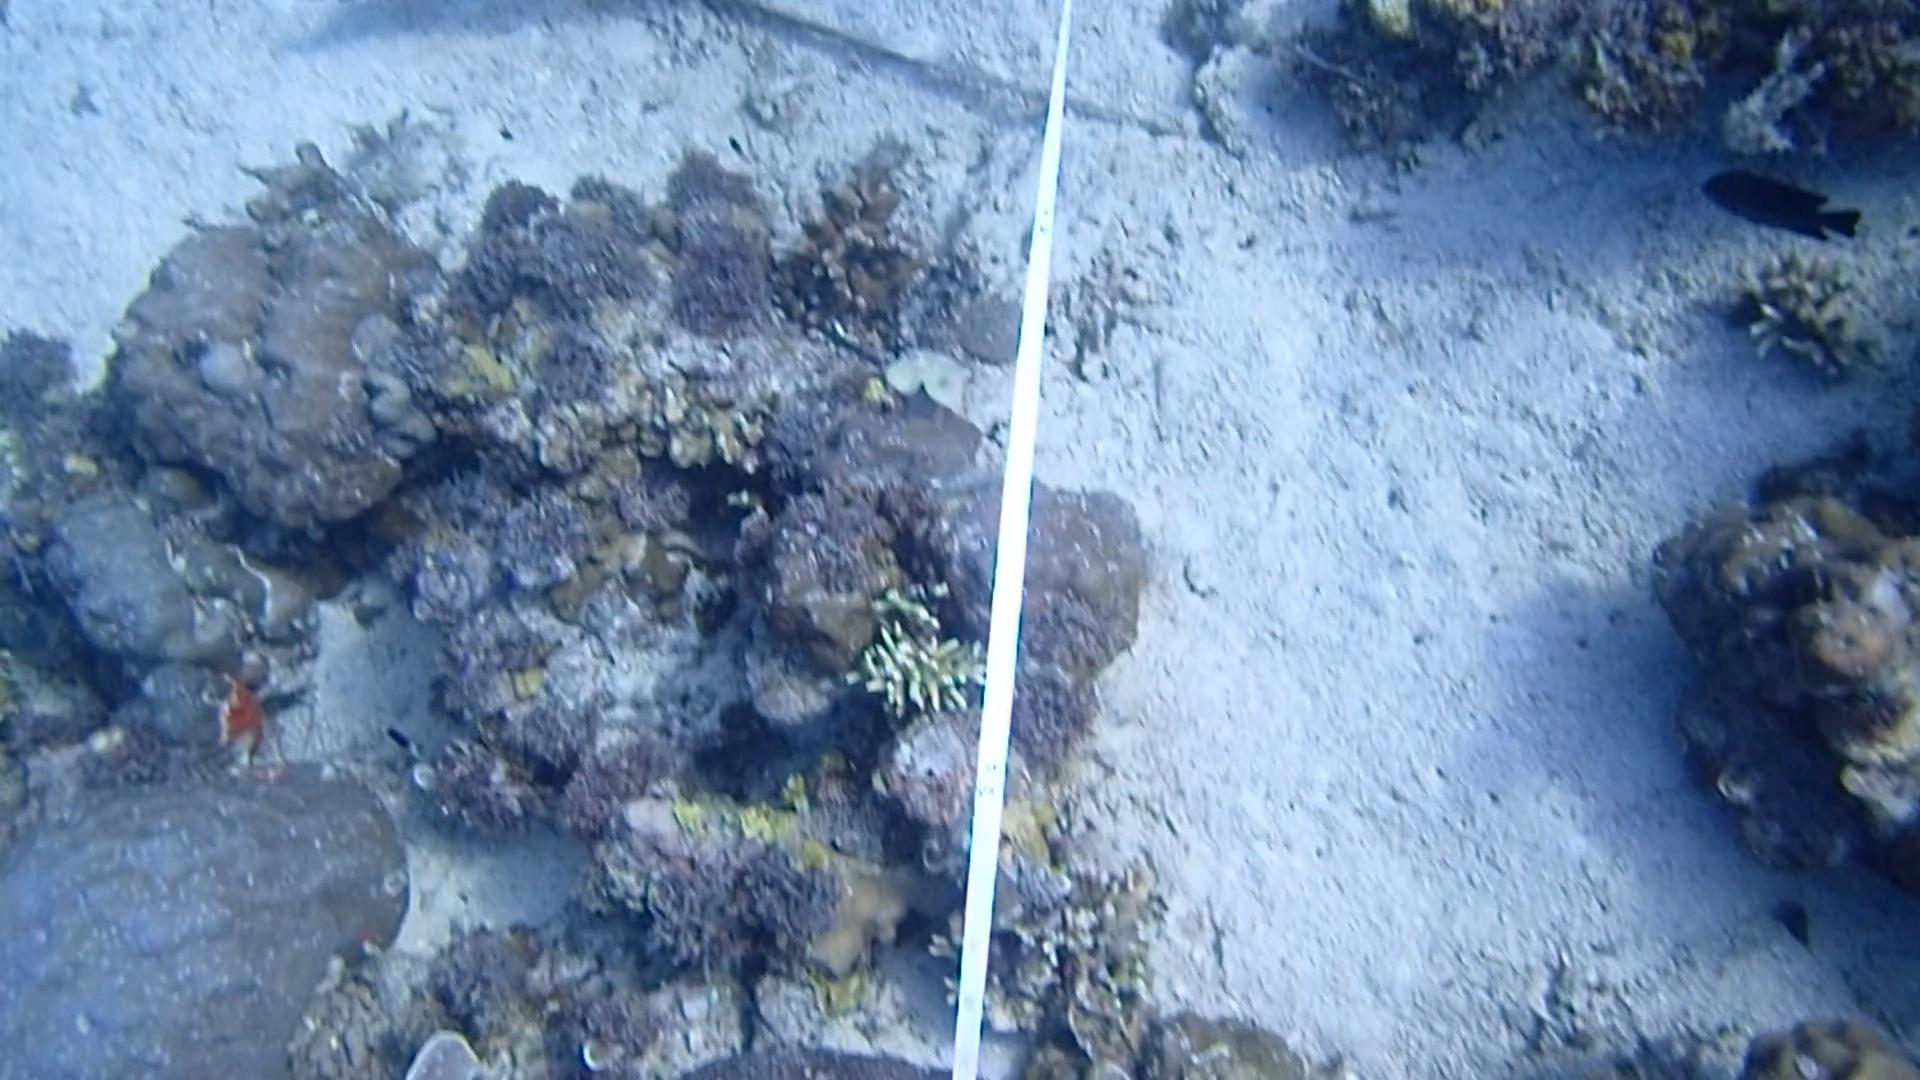Dark Fish: (1693, 165, 1870, 253)
